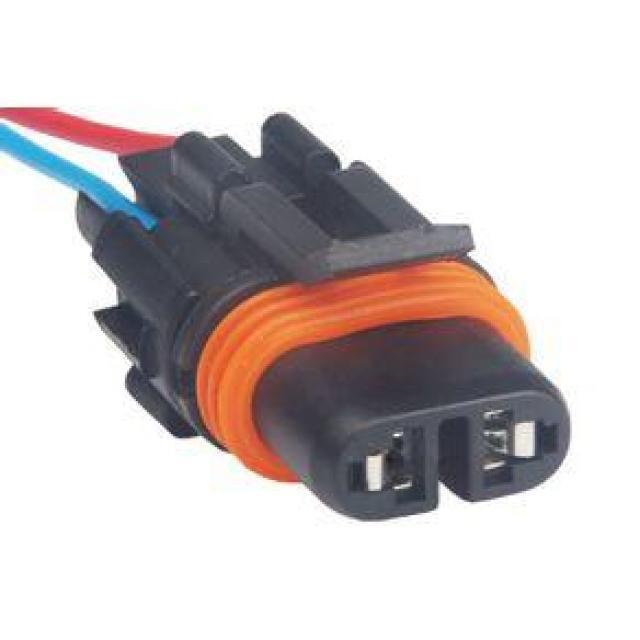connector: (0, 44, 640, 614)
